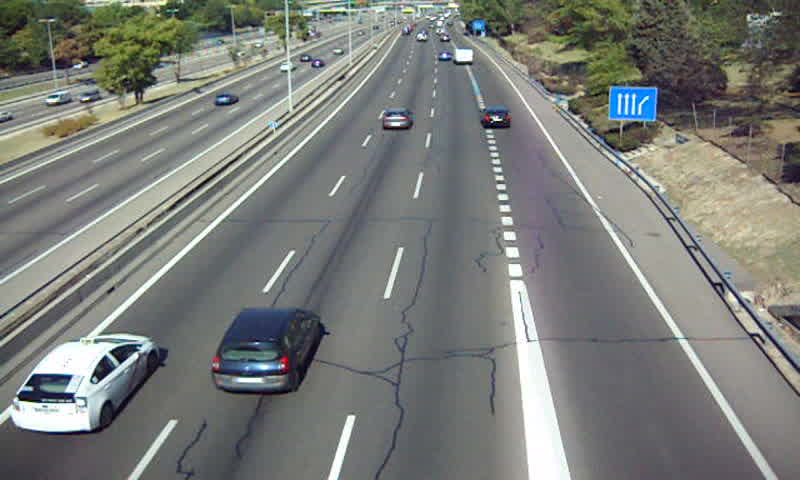car: (12, 335, 158, 431), (212, 308, 320, 393), (382, 106, 413, 130), (479, 108, 513, 129)
van: (452, 49, 474, 64)
